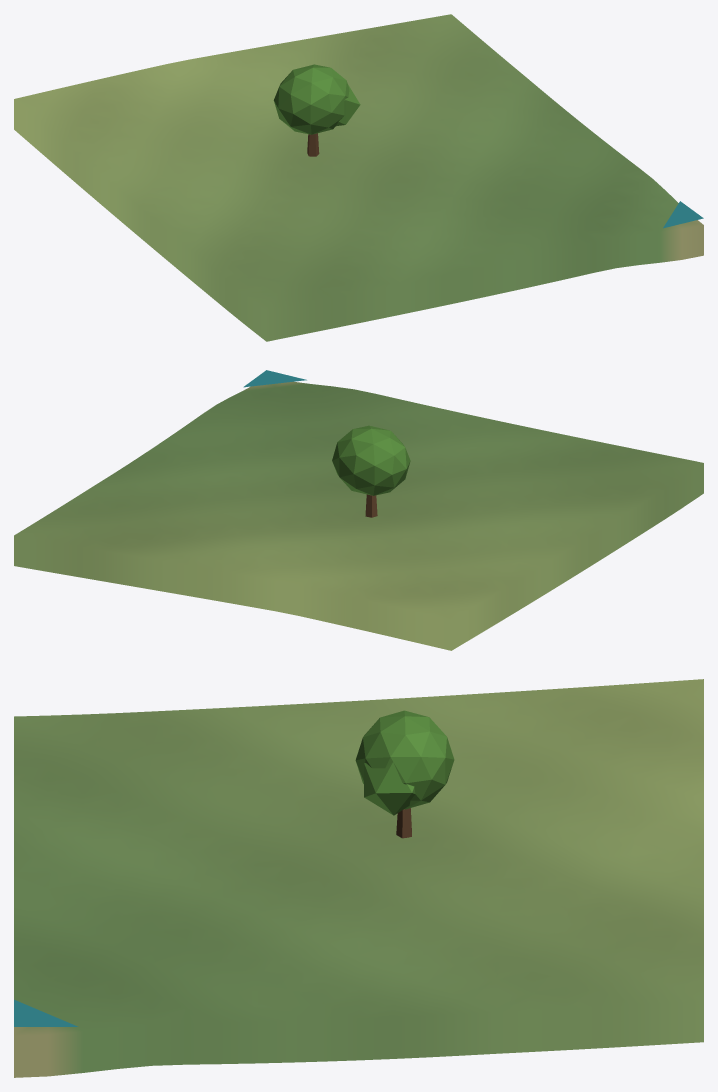
3 renders of one model, top to bottom at view 1: azimuth 30°, elevation 25°; view 2: azimuth 150°, elevation 25°; view 3: azimuth 270°, elevation 25°, orthographic. The views are drawn at different scales.
Parts seen in each view (by area): view 1: terrain, scenery; view 2: terrain, scenery; view 3: terrain, scenery.
Boxes of the visible parts, <box> form: terrain: <box>14,14,703,341</box>; scenery: <box>273,64,703,228</box>; terrain: <box>14,381,703,650</box>; scenery: <box>243,370,410,517</box>; terrain: <box>14,679,703,1077</box>; scenery: <box>14,710,454,1026</box>.
Size of the model in its own units: 30 by 9.42 by 30.
